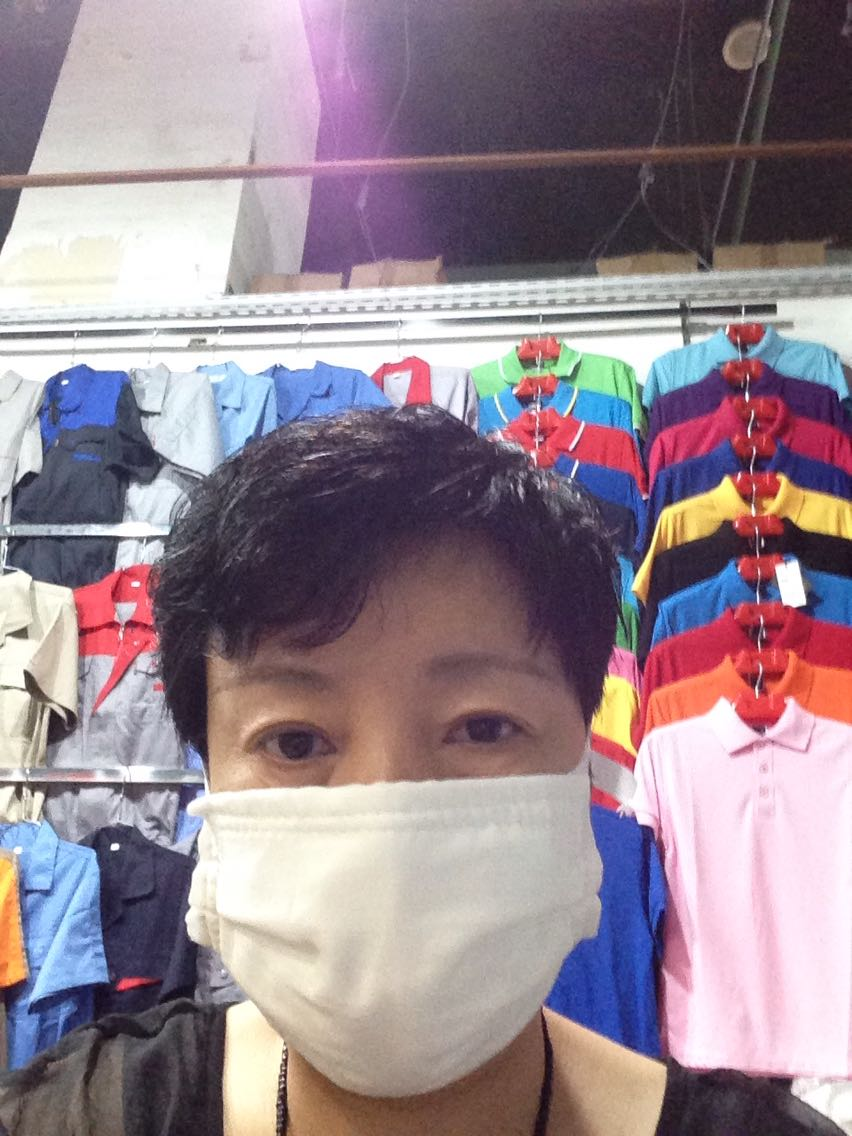face_mask: (214, 525, 579, 1087)
